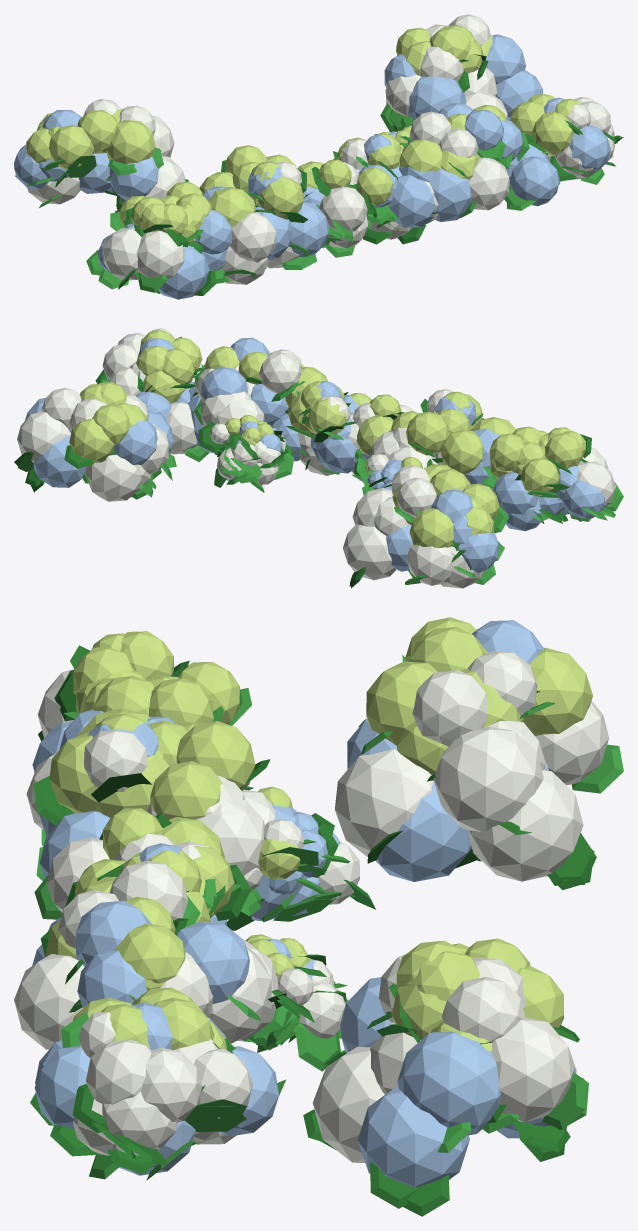
The model's file is bookshopHydrangeas.glb.
The picture shows the model from 3 angles, top to bottom: view 1: azimuth 30°, elevation 25°; view 2: azimuth 150°, elevation 25°; view 3: azimuth 270°, elevation 25°; orthographic projection. The views are drawn at different scales.
Visible parts, largest first — view 1: n226, n230, n229, n228, n227; view 2: n229, n230, n226, n228, n227; view 3: n229, n230, n226, n227, n228.
Boxes of the visible parts, bbox=[...] form: n226: bbox=[14, 34, 610, 299]; n230: bbox=[26, 25, 581, 243]; n229: bbox=[27, 14, 615, 284]; n228: bbox=[15, 103, 604, 292]; n227: bbox=[104, 54, 623, 295]; n229: bbox=[17, 328, 615, 588]; n230: bbox=[69, 330, 585, 548]; n226: bbox=[25, 337, 606, 573]; n228: bbox=[14, 336, 623, 585]; n227: bbox=[25, 367, 591, 588]; n229: bbox=[14, 650, 608, 1162]; n230: bbox=[45, 617, 592, 1052]; n226: bbox=[32, 620, 576, 1187]; n227: bbox=[30, 645, 596, 1216]; n228: bbox=[34, 655, 623, 1180].
Bounding box in the file's own units: 7.57 × 1.62 × 4.15.
